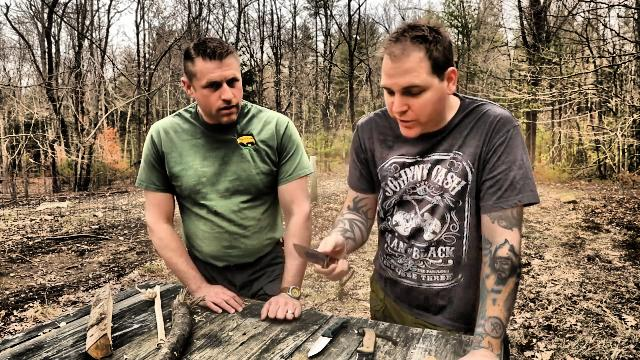knife: (286, 237, 352, 283)
